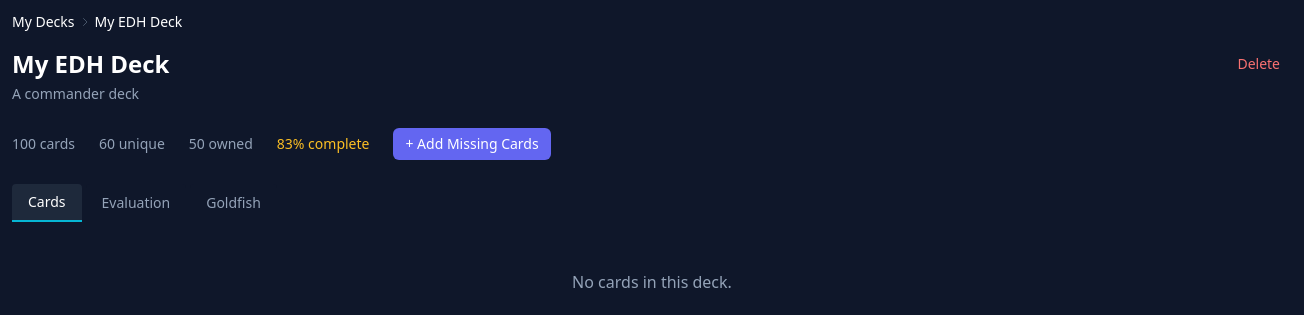
DeckView inline edit › pressing Enter saves name and exits edit mode
The width and height of the screenshot is (1304, 315).
Click the heading with test id "deck-title" at (91,64), box x1=12 y1=47 x2=170 y2=80
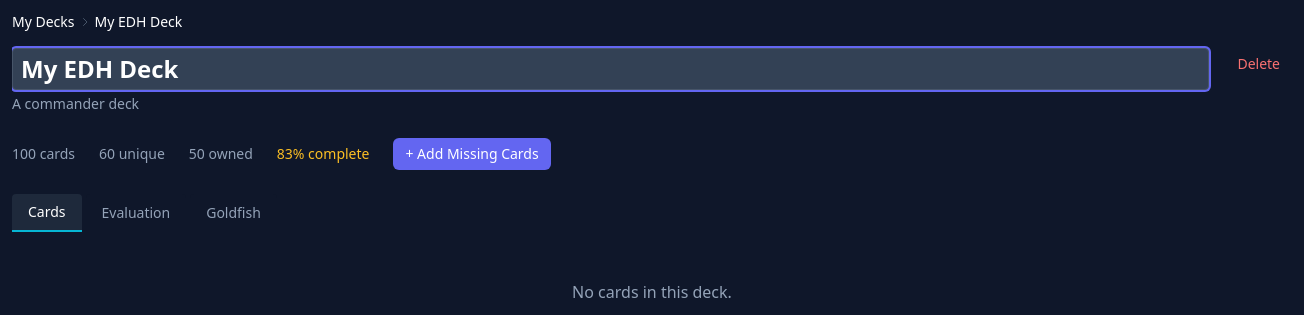
Replace the text in the field with test id "deck-title-input" with "New Name" at (611,69), box x1=12 y1=48 x2=1209 y2=90
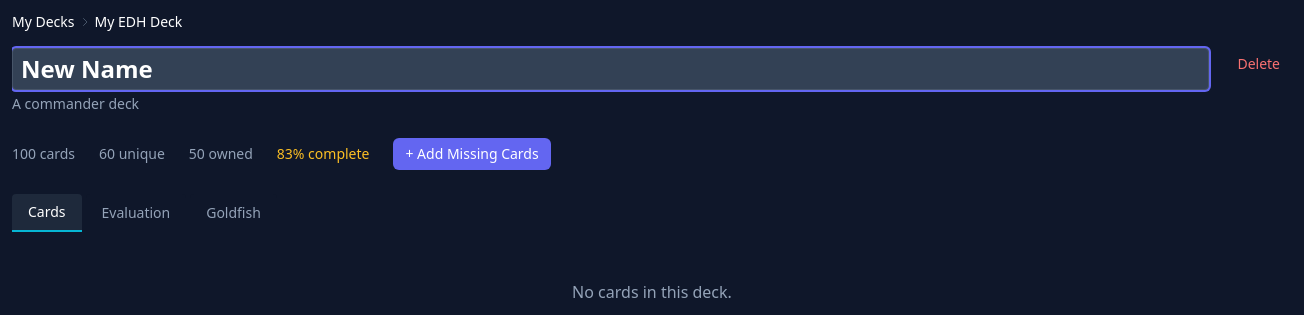
Press Enter in the field with test id "deck-title-input", box x1=12 y1=48 x2=1209 y2=90
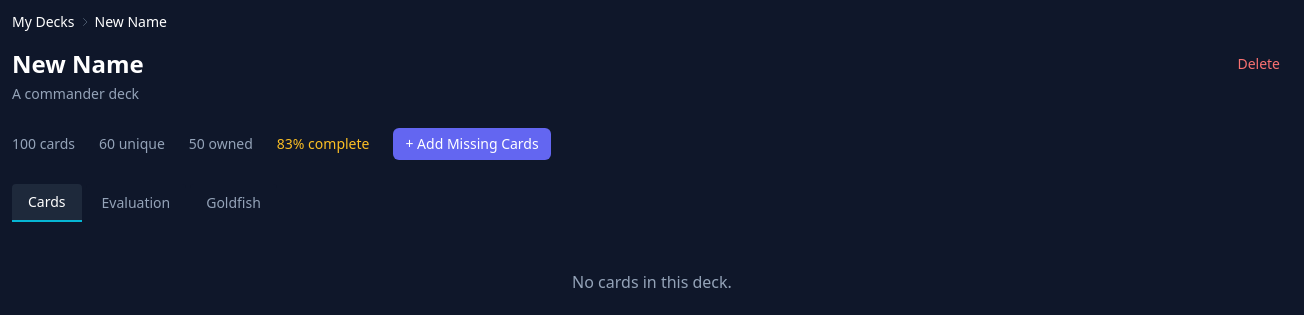
Expected: the field with test id "deck-title-input" is gone
Expected: the heading with test id "deck-title" reads "New Name", x1=12 y1=47 x2=144 y2=80
